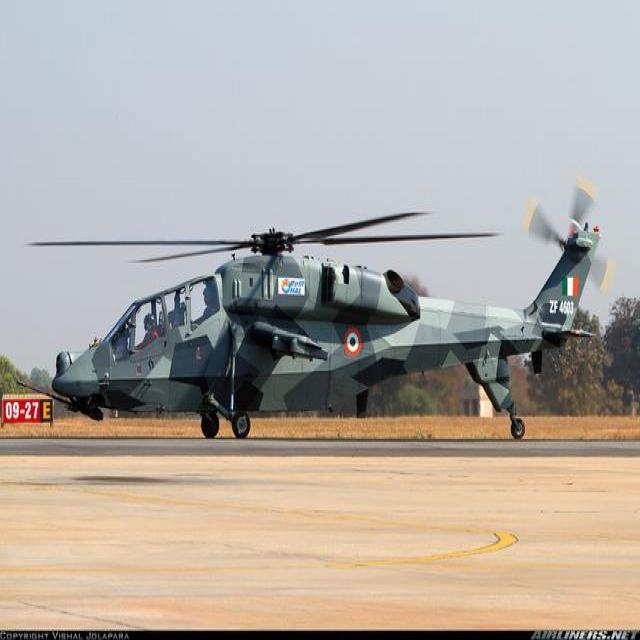MIL_HELO: (22, 174, 635, 445)
